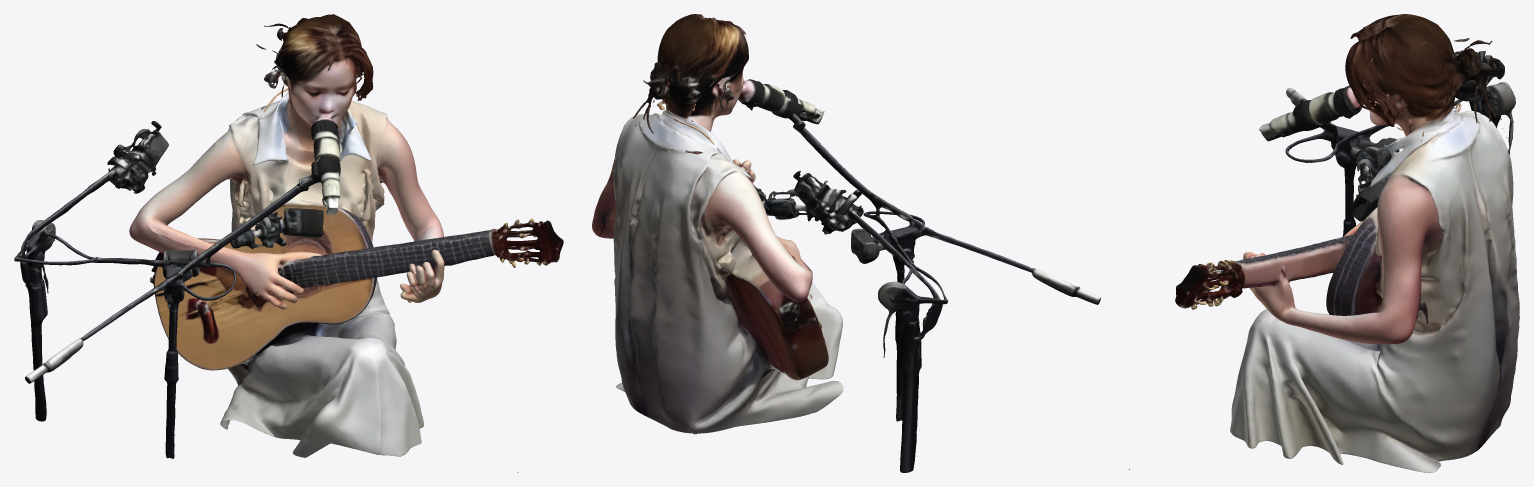
The model's file is singer.glb.
The picture shows the model from 3 angles, left to right: view 1: azimuth 30°, elevation 25°; view 2: azimuth 150°, elevation 25°; view 3: azimuth 270°, elevation 25°; orthographic projection. The views are drawn at different scales.
Parts seen in each view (by area): view 1: world; view 2: world; view 3: world.
Part boxes in pixels (x1=…): world: x1=14, y1=14, x2=563, y2=472; world: x1=592, y1=14, x2=1100, y2=472; world: x1=1129, y1=14, x2=1519, y2=472.
Size of the model in its own units: 0.9972 by 0.7352 by 0.6288.
Materials: 1 (1 with a texture image).
